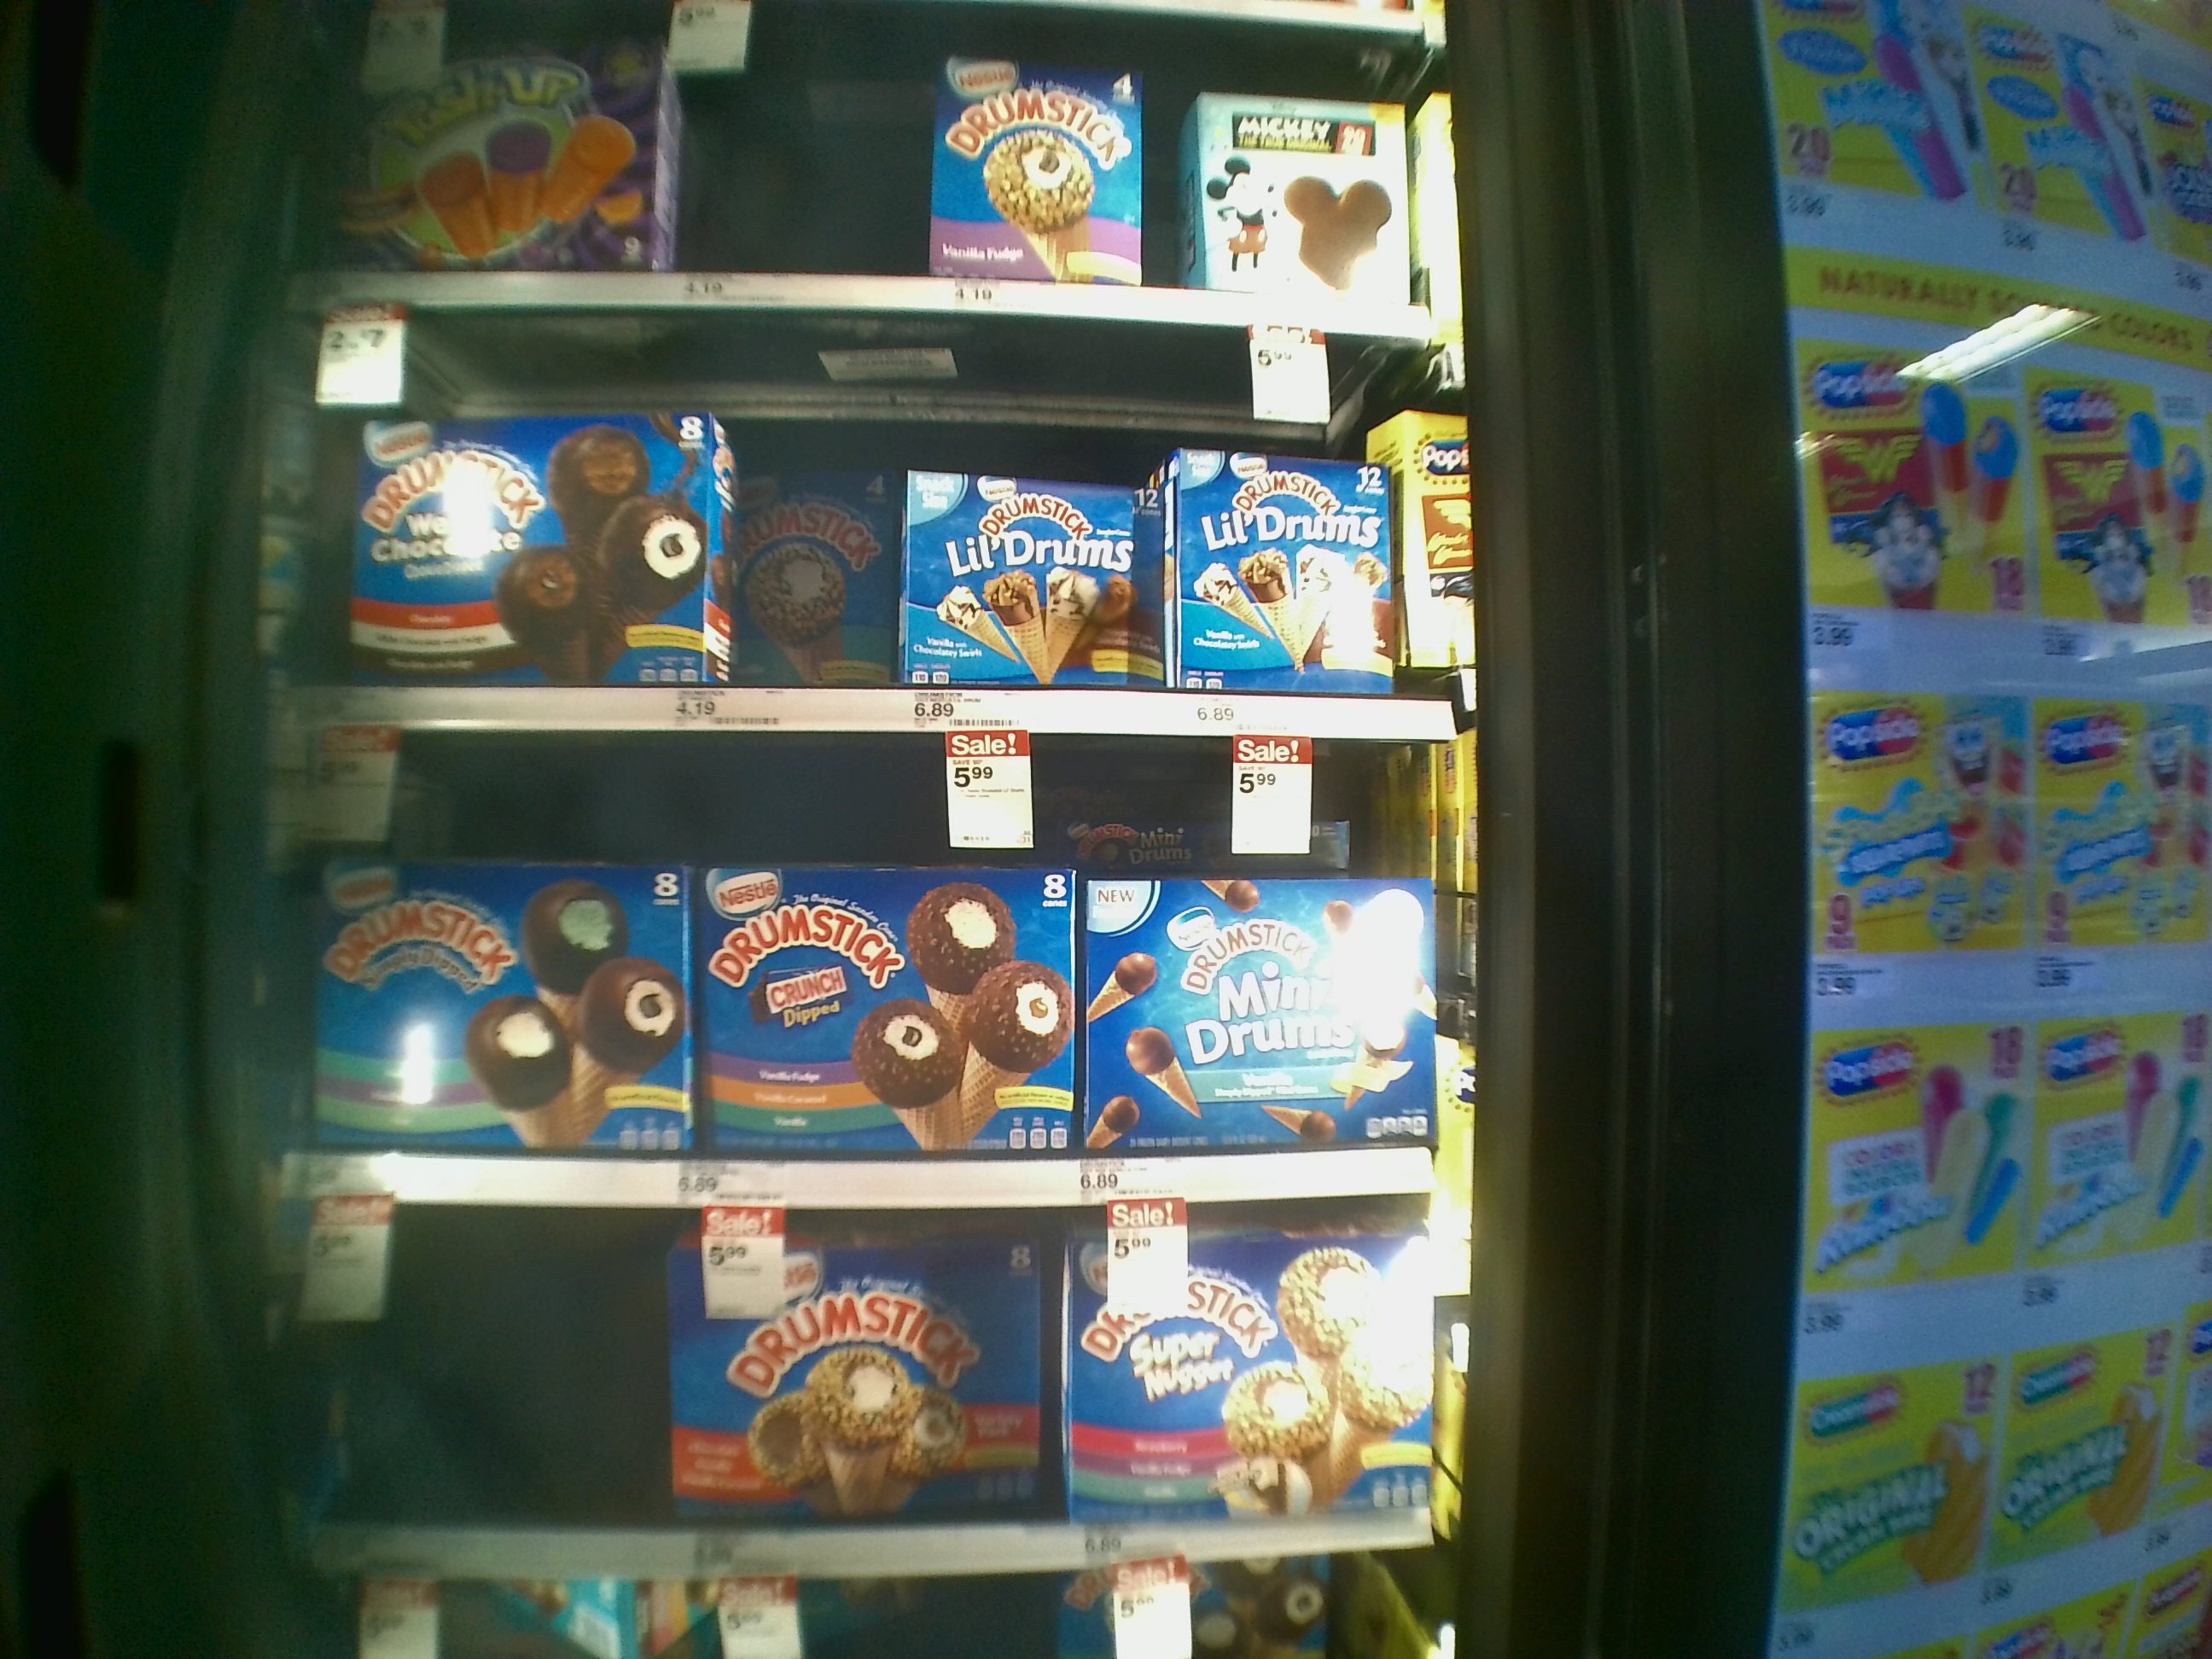ice-cream-shelf: (326, 734, 1451, 1206), (320, 310, 1468, 737), (324, 1199, 1453, 1575)
